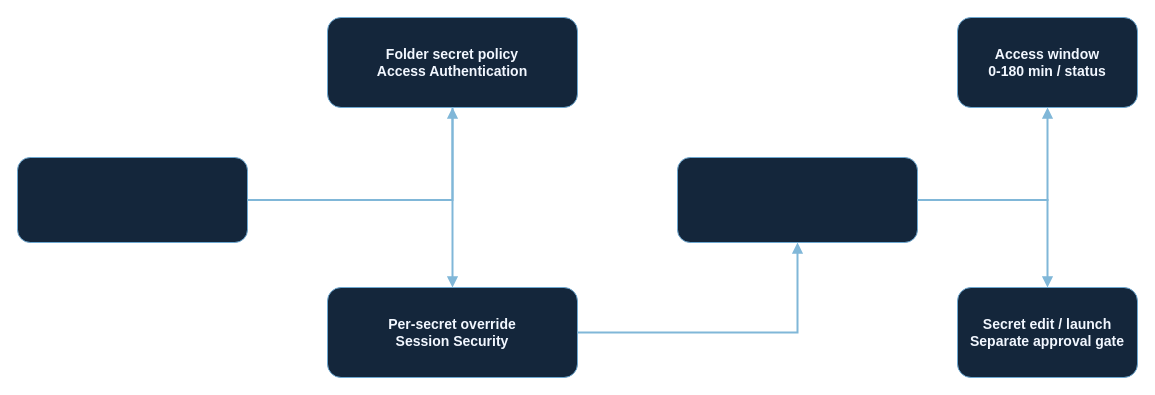
This 1155x395 diagram has some shape labels left out. Here are the shapes that lost their labels. From the top down, the centre of each, then its label:
the point at 132,199: FortiPAM login Local / RADIUS / LDAP
the point at 797,199: Step-up authentication Selected server
